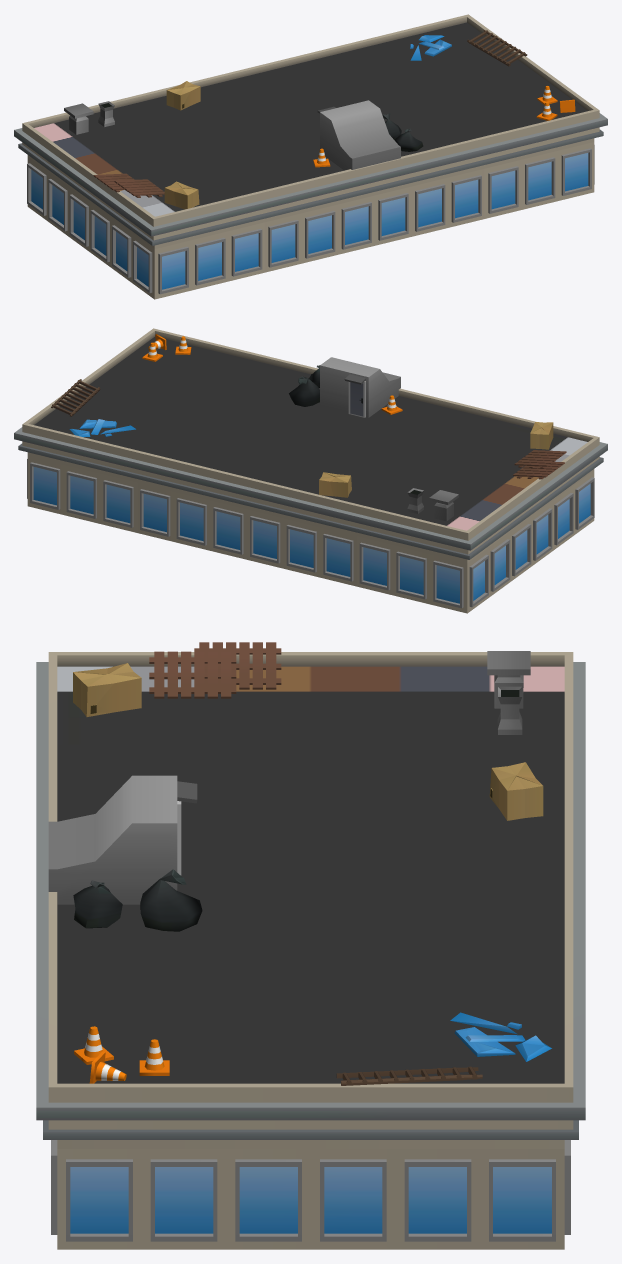
The model's file is building.fbx.
3 views of the same model, one above another, from view 1: azimuth 30°, elevation 25°; view 2: azimuth 150°, elevation 25°; view 3: azimuth 270°, elevation 25° (orthographic). The views are drawn at different scales.
Parts seen in each view (by area): view 1: roof_1, base_1, exit, ladder, box1, box, exhaust_pipe_1, boards_1, scrap, garbage_bag_2, boards_2; view 2: roof_1, base_1, exit, ladder, box1, garbage_bag_1, scrap, exhaust_pipe_1, boards_1, box, boards_2; view 3: roof_1, base_1, exit, boards_1, box, garbage_bag_1, boards_2, box1, scrap, ladder, garbage_bag_2, exhaust_pipe_1 (+1 smaller).
Part boxes in pixels (box(x1,y1,x2,y2)): roof_1: box(14, 14, 607, 245); base_1: box(27, 138, 594, 299); exit: box(317, 100, 400, 170); ladder: box(467, 30, 527, 66); box1: box(166, 81, 200, 110); box: box(164, 181, 199, 209); exhaust_pipe_1: box(64, 103, 93, 134); boards_1: box(114, 179, 164, 197); scrap: box(410, 35, 451, 60); garbage_bag_2: box(395, 128, 423, 151); boards_2: box(93, 173, 134, 192); roof_1: box(14, 328, 607, 559); base_1: box(27, 452, 594, 613); exit: box(320, 357, 400, 417); ladder: box(51, 379, 100, 416); box1: box(319, 472, 351, 497); garbage_bag_1: box(289, 376, 319, 406); scrap: box(69, 419, 135, 437); exhaust_pipe_1: box(429, 490, 458, 521); boards_1: box(514, 450, 566, 468); box: box(530, 422, 553, 449); boards_2: box(513, 461, 564, 479); roof_1: box(36, 652, 585, 1139); base_1: box(51, 1140, 570, 1249); exit: box(48, 775, 197, 904); boards_1: box(149, 651, 236, 698); box: box(73, 663, 141, 716); garbage_bag_1: box(140, 869, 202, 931); boards_2: box(194, 642, 281, 689); box1: box(489, 762, 543, 820); scrap: box(450, 1012, 551, 1061); ladder: box(336, 1066, 482, 1085); garbage_bag_2: box(73, 880, 122, 928); exhaust_pipe_1: box(487, 651, 530, 708).
Bounding box in the file's own units: 3038 × 748 × 1582.
